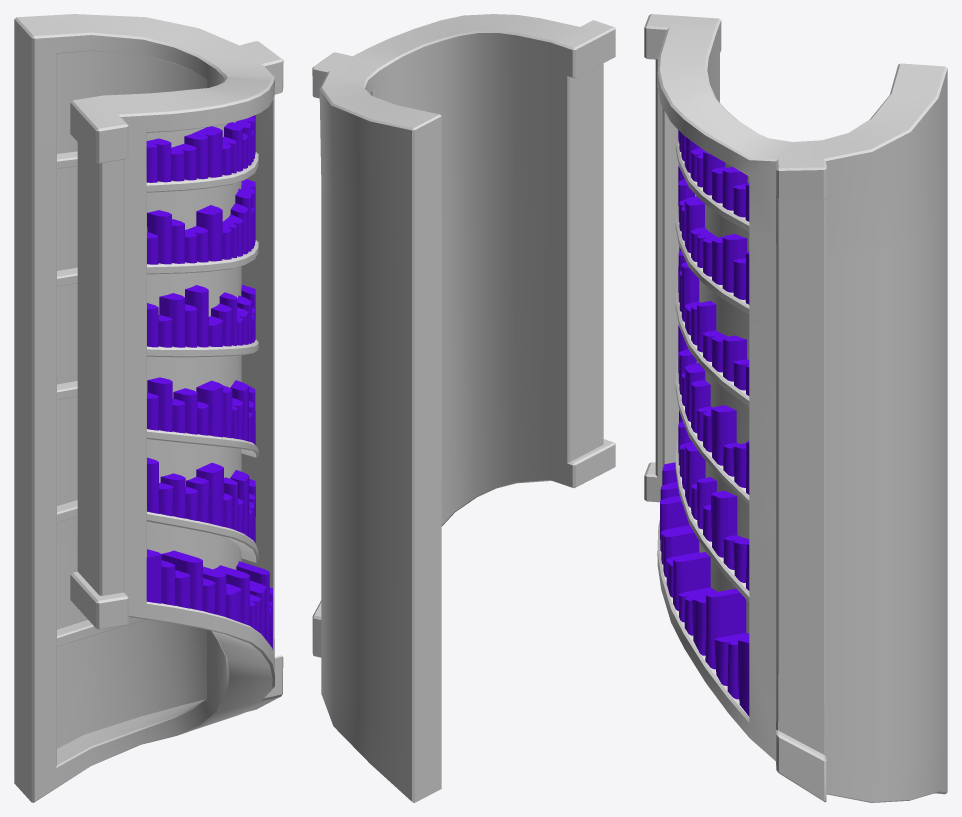
File: Bookshelf2.fbx
The picture shows the model from 3 angles, left to right: view 1: azimuth 30°, elevation 25°; view 2: azimuth 150°, elevation 25°; view 3: azimuth 270°, elevation 25°; orthographic projection. The views are drawn at different scales.
Parts seen in each view (by area): view 1: Cylinder001, Object008; view 2: Cylinder001; view 3: Cylinder001, Object008.
Part boxes in pixels (x1=…): Cylinder001: x1=14, y1=14, x2=283, y2=802; Object008: x1=146, y1=115, x2=272, y2=649; Cylinder001: x1=312, y1=14, x2=615, y2=802; Cylinder001: x1=644, y1=14, x2=947, y2=802; Object008: x1=660, y1=130, x2=749, y2=716.
Bounding box in the file's own units: 3891 × 11496 × 4230.
